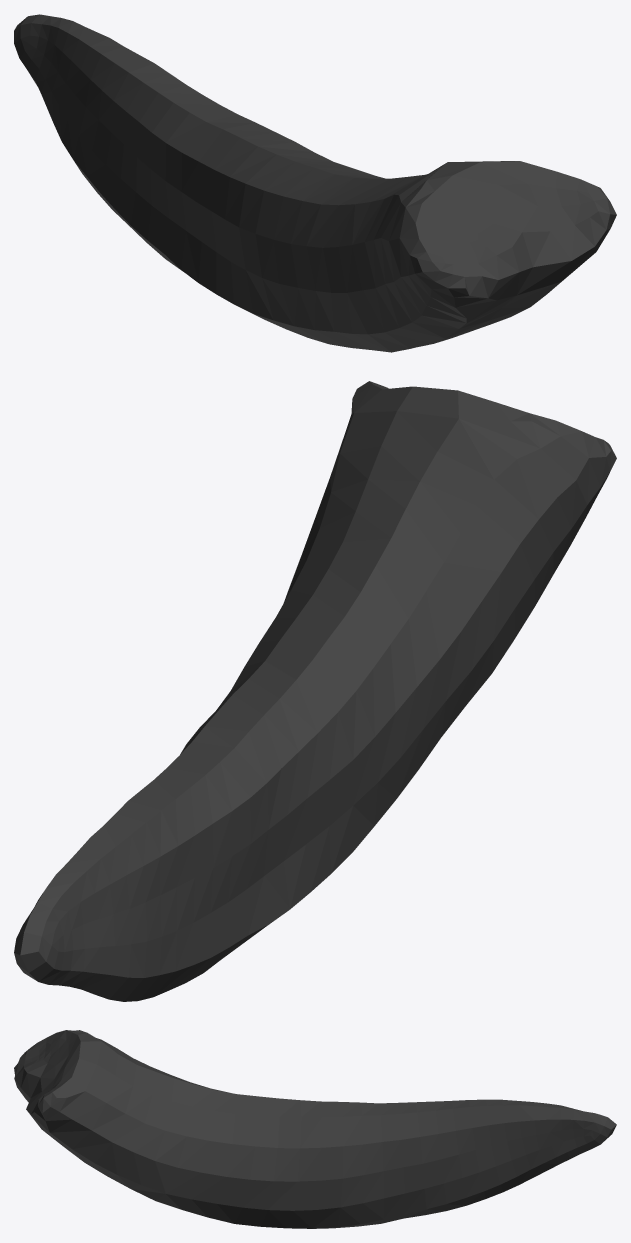
The model's file is L_mand_I1.glb.
The picture shows the model from 3 angles, top to bottom: view 1: azimuth 30°, elevation 25°; view 2: azimuth 150°, elevation 25°; view 3: azimuth 270°, elevation 25°; orthographic projection. The views are drawn at different scales.
Visible parts, largest first — view 1: L_mand_I1; view 2: L_mand_I1; view 3: L_mand_I1.
Part boxes in pixels (x1,y1,x2,y2): L_mand_I1: (14, 14, 616, 352); L_mand_I1: (14, 381, 616, 1001); L_mand_I1: (14, 1030, 616, 1228).
Size of the model in its own units: 0.0726 by 0.0993 by 0.2858.
Materials: 1 (1 with a texture image).
